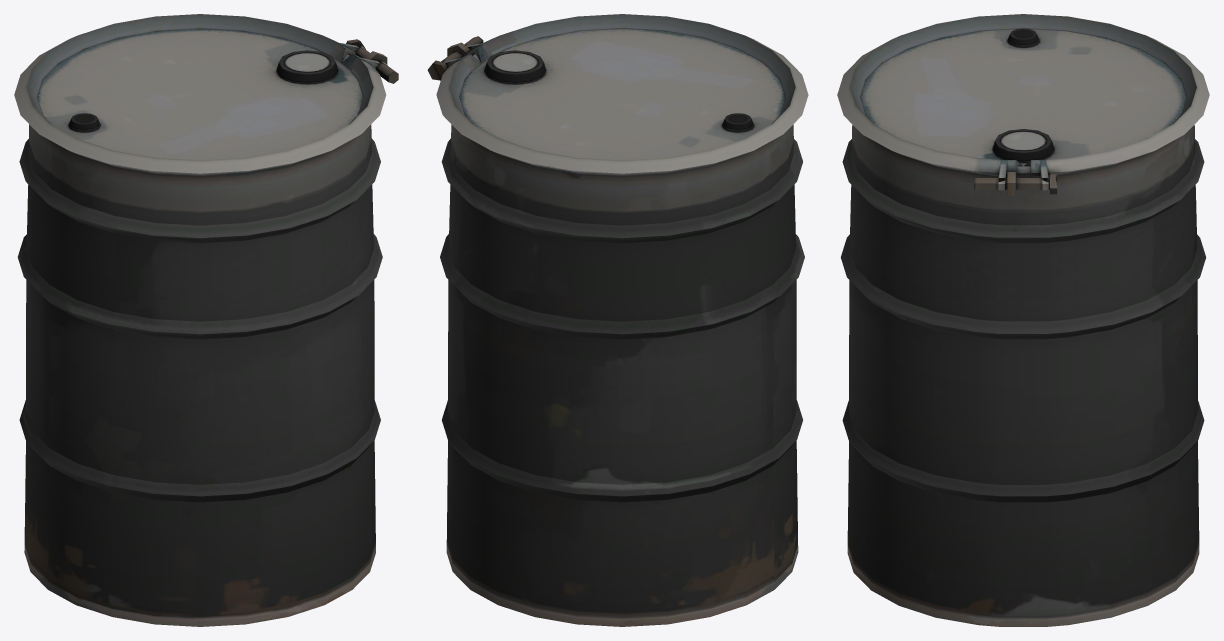
Rendered from barrel03.glb.
3 renders of one model, left to right at view 1: azimuth 30°, elevation 25°; view 2: azimuth 150°, elevation 25°; view 3: azimuth 270°, elevation 25°, orthographic.
Visible parts, largest first — view 1: barrel03; view 2: barrel03; view 3: barrel03.
Part boxes in pixels (x1,y1,x2,y2): barrel03: [14, 14, 398, 626]; barrel03: [427, 14, 808, 626]; barrel03: [837, 14, 1209, 626].
Size of the model in its own units: 1.17 by 1.52 by 1.1.
1 material, 1 textured.
